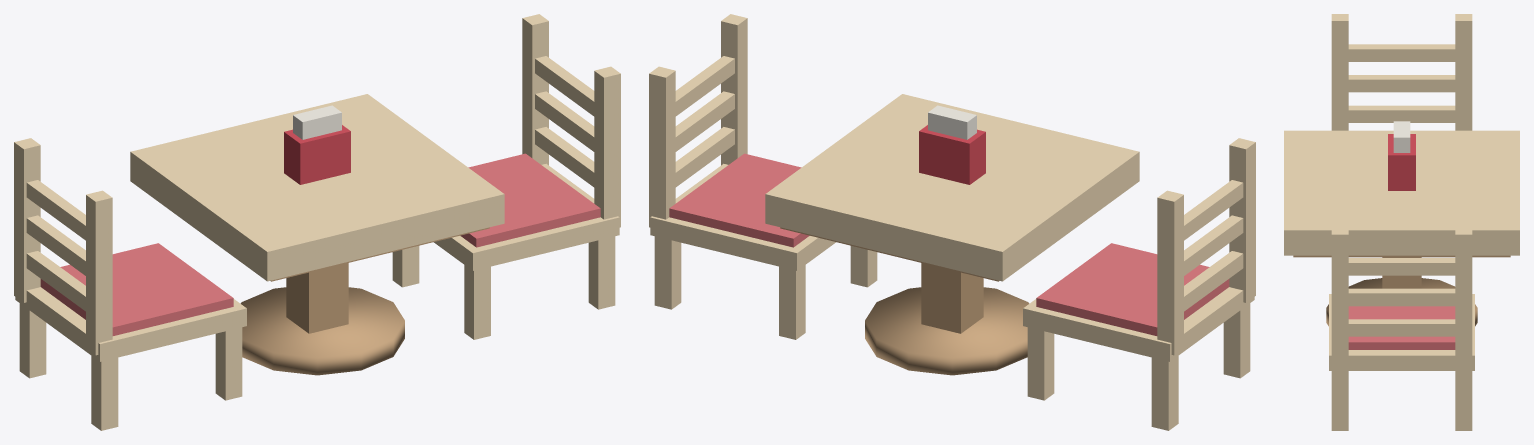
File: table-ca-2.glb
The picture shows the model from 3 angles, left to right: view 1: azimuth 30°, elevation 25°; view 2: azimuth 150°, elevation 25°; view 3: azimuth 270°, elevation 25°; orthographic projection. The views are drawn at different scales.
Visible parts, largest first — view 1: Top, ChairL-Wood, ChairR-Wood, Foot, ChairL-Cushion, ChairR-Cushion, Pedestal, Napkins, NapkinPaper; view 2: Top, ChairL-Wood, ChairR-Wood, Foot, ChairL-Cushion, ChairR-Cushion, Pedestal, Napkins, NapkinPaper; view 3: Top, ChairR-Wood, ChairL-Wood, ChairR-Cushion, Napkins, Foot, Pedestal, NapkinPaper, TopEdge.
Boxes of the visible parts, box(x1,y1,x2,y2) form: Top: box(130, 94, 504, 281); ChairL-Wood: box(14, 138, 246, 430); ChairR-Wood: box(392, 14, 620, 339); Foot: box(240, 287, 404, 375); ChairL-Cushion: box(40, 243, 233, 335); ChairR-Cushion: box(460, 153, 600, 247); Pedestal: box(286, 263, 348, 333); Napkins: box(284, 125, 350, 184); NapkinPaper: box(293, 105, 341, 139); Top: box(765, 94, 1139, 281); ChairL-Wood: box(1023, 138, 1255, 430); ChairR-Wood: box(649, 14, 877, 339); Foot: box(865, 287, 1029, 375); ChairL-Cushion: box(1036, 243, 1229, 335); ChairR-Cushion: box(669, 153, 809, 247); Pedestal: box(921, 263, 983, 333); Napkins: box(919, 125, 985, 184); NapkinPaper: box(928, 105, 976, 139); Top: box(1284, 130, 1519, 255); ChairR-Wood: box(1329, 227, 1474, 430); ChairL-Wood: box(1331, 14, 1472, 130); ChairR-Cushion: box(1348, 306, 1455, 349); Napkins: box(1388, 134, 1415, 190); Foot: box(1326, 278, 1477, 326); Pedestal: box(1382, 257, 1421, 288); NapkinPaper: box(1393, 121, 1410, 152); TopEdge: box(1293, 255, 1510, 257).
Bounding box in the file's own units: 0.093 × 0.039 × 0.042.
